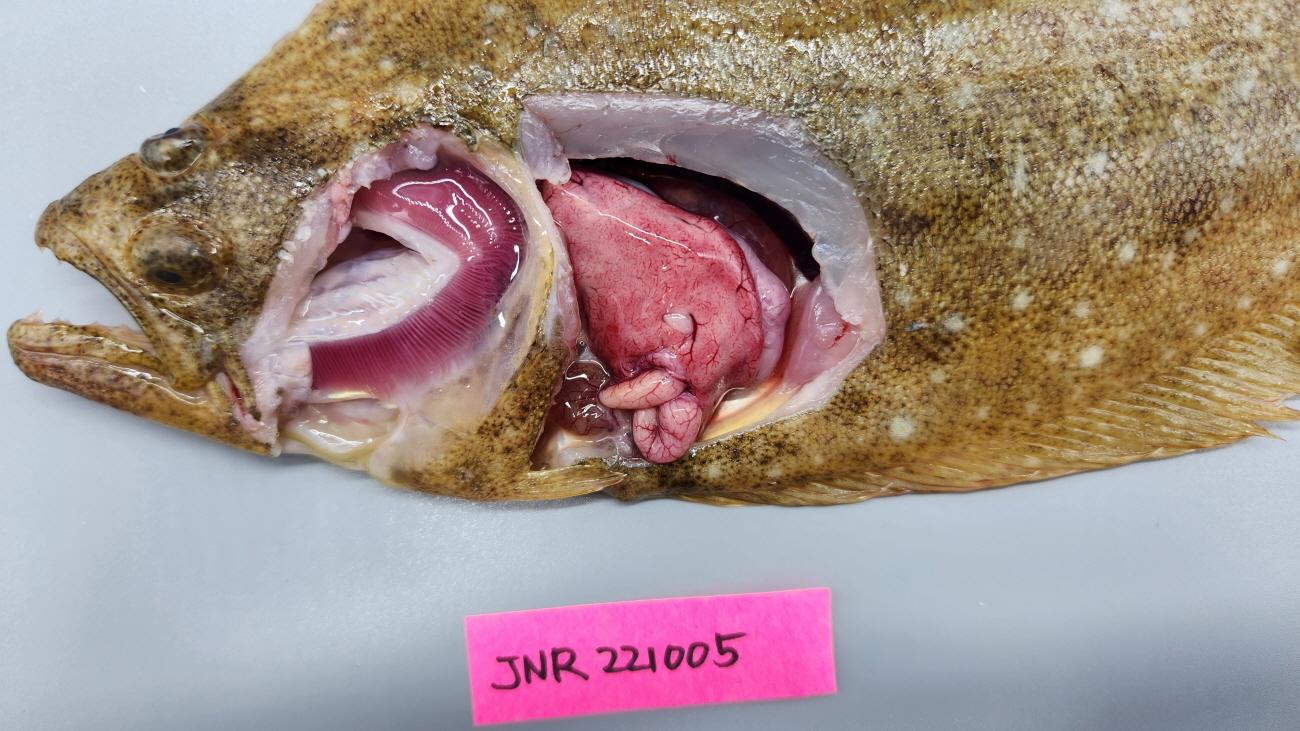POGIN: (309, 159, 524, 389)
